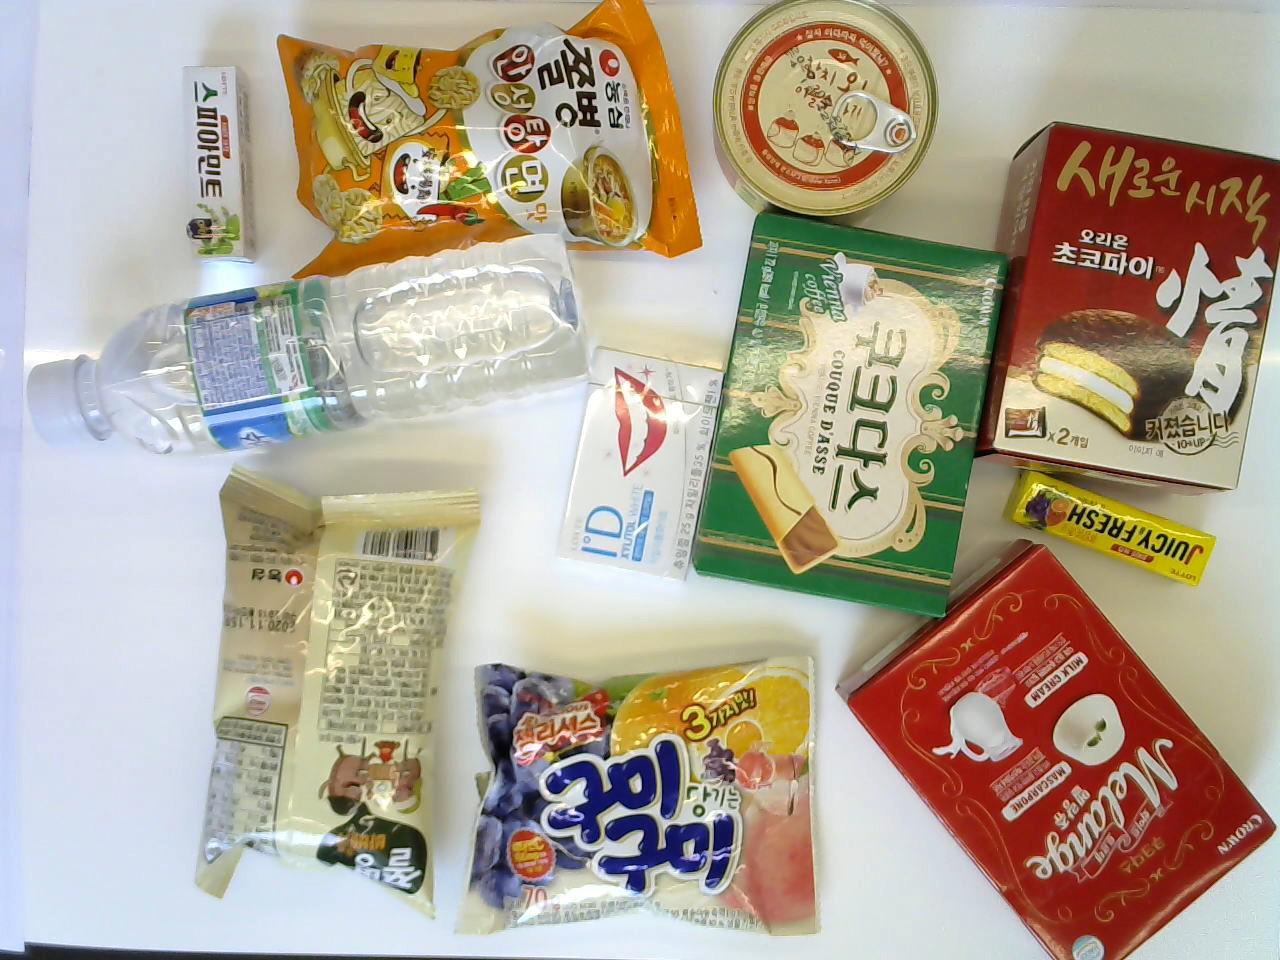ID_gum: (554, 346, 740, 588)
chocopie: (972, 123, 1280, 498)
couque_coffee: (688, 208, 1006, 618)
couque_white: (829, 534, 1276, 960)
gumi_gumi: (460, 647, 820, 943)
jjolbyung_noodle: (274, 0, 702, 279)
jjolbyung_ori: (191, 462, 482, 921)
juicyfresh: (1003, 460, 1220, 590)
samdasu: (26, 226, 593, 470)
spearmint: (179, 62, 258, 266)
tuna: (709, 0, 941, 229)
